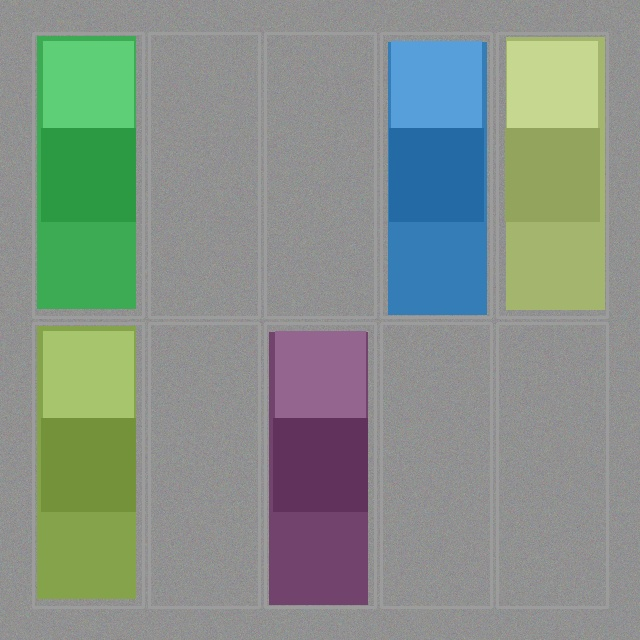space-empty: (151, 35, 257, 315), (267, 35, 373, 315), (151, 325, 257, 605), (383, 325, 489, 605), (499, 325, 605, 605)
space-occupied: (35, 35, 141, 315), (383, 35, 489, 315), (499, 35, 605, 315), (35, 325, 141, 605), (267, 325, 373, 605)
